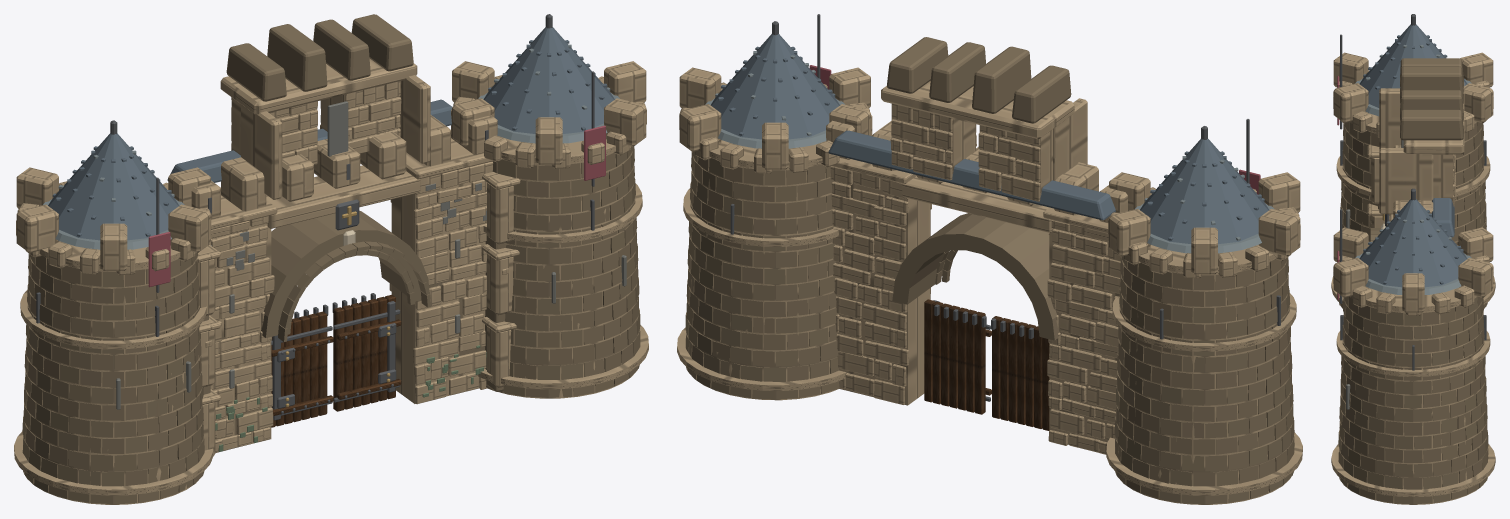
File: valoria_gate_reference.glb
3 renders of one model, left to right at view 1: azimuth 30°, elevation 25°; view 2: azimuth 150°, elevation 25°; view 3: azimuth 270°, elevation 25°, orthographic. The views are drawn at different scales.
Parts seen in each view (by area): view 1: arched_voussoir, ashlar_portal_outboard.007, gate_parapet_recessed_stone_hip, gate_flank_tower_recessed_drum, ashlar_portal_outboard.002, ashlar_portal_outboard.006, ashlar_portal_outboard, ashlar_portal_outboard.001, ashlar_portal_outboard.004, ashlar_portal_outboard.005, ashlar_portal_outboard.003, black_iron_strap.001 (+7 smaller); view 2: arched_voussoir, ashlar_portal_outboard.007, gate_parapet_recessed_stone_hip, ashlar_portal_outboard.002, gate_flank_tower_recessed_drum, ashlar_portal_outboard, ashlar_portal_outboard.001, ashlar_portal_outboard.004, ashlar_portal_outboard.005, ashlar_portal_outboard.003, ashlar_portal_outboard.006, vertical_oak_plank (+4 smaller); view 3: arched_voussoir, gate_parapet_recessed_stone_hip, ashlar_portal_outboard.002, gate_flank_tower_recessed_drum, ashlar_portal_outboard.003, ashlar_portal_outboard.007, ashlar_portal_outboard.006, ashlar_portal_outboard.001, ashlar_portal_outboard, ashlar_portal_outboard.005, ashlar_portal_outboard.004, slate_lap_tile (+2 smaller).
Part boxes in pixels (box(x1,y1,x2,y2)): arched_voussoir: box(14, 61, 648, 495); ashlar_portal_outboard.007: box(22, 43, 639, 492); gate_parapet_recessed_stone_hip: box(48, 27, 614, 240); gate_flank_tower_recessed_drum: box(24, 85, 639, 504); ashlar_portal_outboard.002: box(22, 14, 639, 502); ashlar_portal_outboard.006: box(25, 100, 640, 483); ashlar_portal_outboard: box(22, 24, 637, 504); ashlar_portal_outboard.001: box(23, 19, 634, 474); ashlar_portal_outboard.004: box(24, 143, 640, 504); ashlar_portal_outboard.005: box(22, 115, 640, 498); ashlar_portal_outboard.003: box(24, 115, 640, 451); black_iron_strap.001: box(36, 14, 594, 420); arched_voussoir: box(677, 67, 1302, 495); ashlar_portal_outboard.007: box(686, 65, 1292, 504); gate_parapet_recessed_stone_hip: box(710, 34, 1268, 243); ashlar_portal_outboard.002: box(685, 37, 1294, 504); gate_flank_tower_recessed_drum: box(686, 118, 1292, 504); ashlar_portal_outboard: box(686, 46, 1294, 486); ashlar_portal_outboard.001: box(686, 42, 1280, 498); ashlar_portal_outboard.004: box(686, 157, 1294, 492); ashlar_portal_outboard.005: box(685, 135, 1293, 502); ashlar_portal_outboard.003: box(687, 137, 1292, 486); ashlar_portal_outboard.006: box(686, 124, 1293, 478); vertical_oak_plank: box(924, 299, 1049, 430); arched_voussoir: box(1331, 52, 1495, 497); gate_parapet_recessed_stone_hip: box(1359, 24, 1467, 287); ashlar_portal_outboard.002: box(1341, 109, 1485, 502); gate_flank_tower_recessed_drum: box(1341, 128, 1488, 504); ashlar_portal_outboard.003: box(1339, 122, 1488, 504); ashlar_portal_outboard.007: box(1339, 58, 1488, 494); ashlar_portal_outboard.006: box(1338, 140, 1487, 476); ashlar_portal_outboard.001: box(1338, 90, 1487, 482); ashlar_portal_outboard: box(1338, 66, 1487, 504); ashlar_portal_outboard.005: box(1338, 130, 1487, 489); ashlar_portal_outboard.004: box(1340, 122, 1487, 502); slate_lap_tile: box(1355, 45, 1471, 294).
Size of the model in its own units: 18.11 by 10.45 by 5.06.
22 materials, 13 textured.
